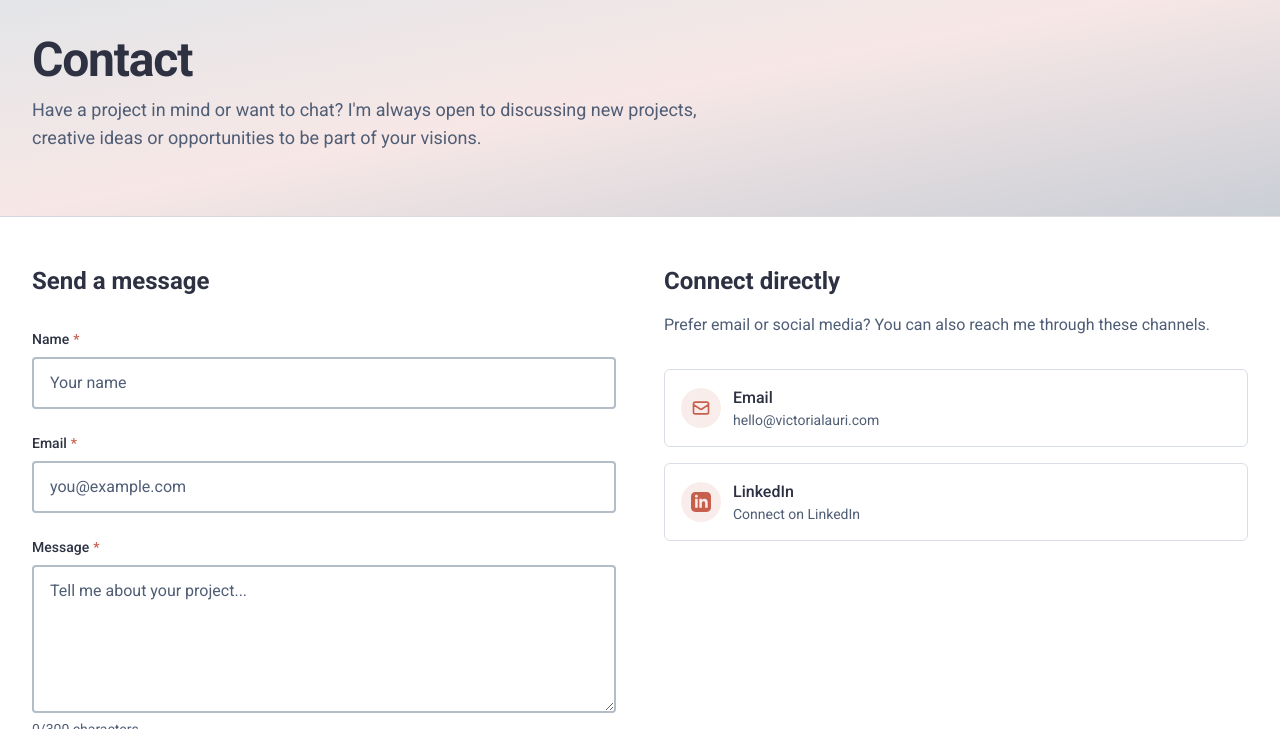
ContactPage Form Validation › validates message length
# Too short
Type "Short" into the text box labelled "Message*". click: (324, 639)
box: [32, 565, 616, 713]
(page scrolled)
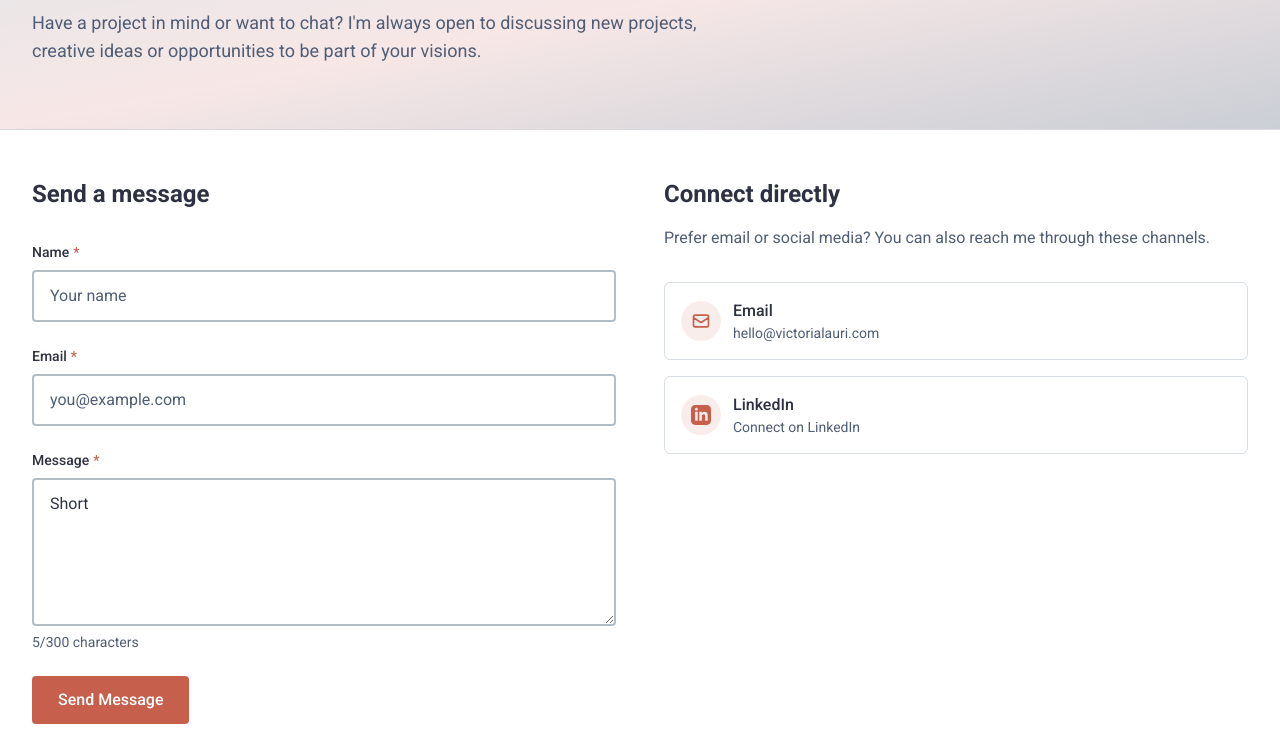
Click the button "Send Message". click: (111, 700)
box: [32, 676, 190, 724]
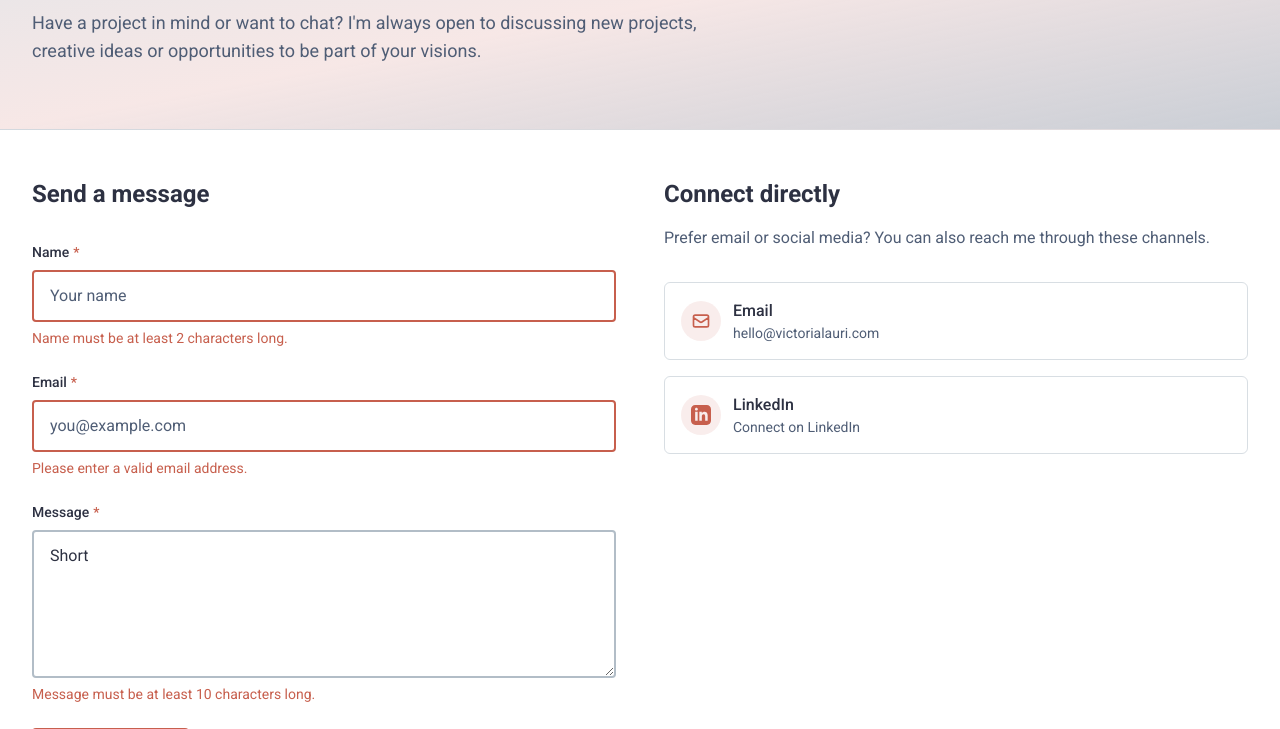
Expected: the text "Message must be at least 10 characters long." is shown, [32, 686, 315, 702]
